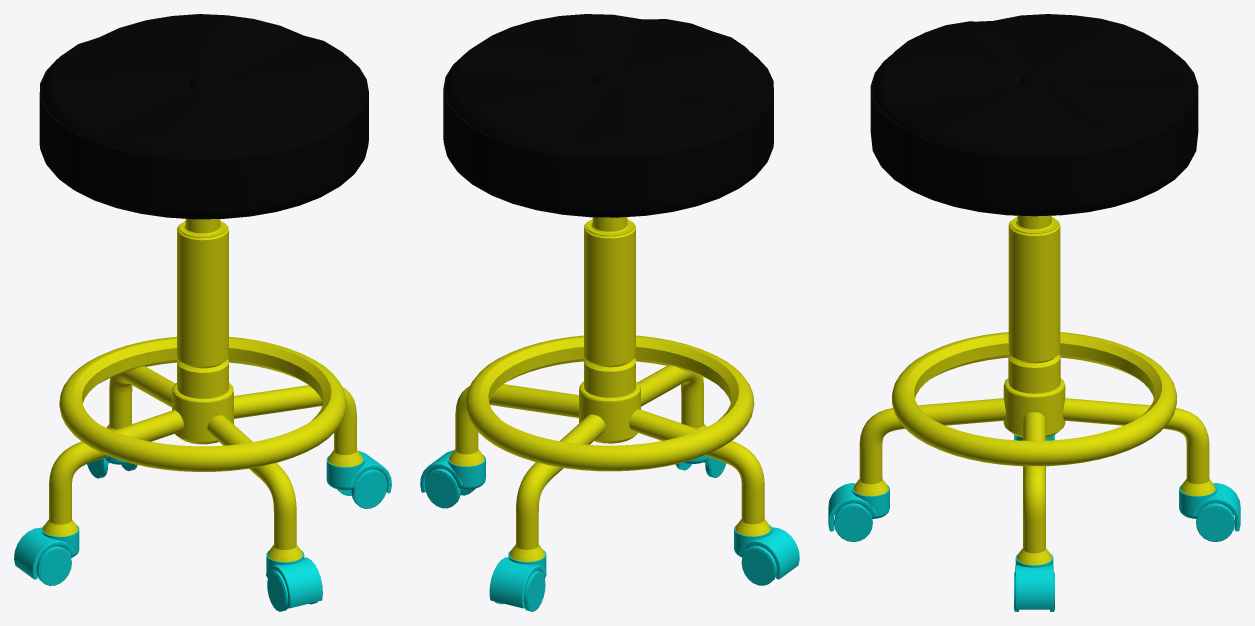
The model's file is FBX_Stool.fbx.
The picture shows the model from 3 angles, left to right: view 1: azimuth 30°, elevation 25°; view 2: azimuth 150°, elevation 25°; view 3: azimuth 270°, elevation 25°; orthographic projection.
Visible parts, largest first — view 1: FBX_Stool; view 2: FBX_Stool; view 3: FBX_Stool.
Part boxes in pixels (x1=…): FBX_Stool: x1=14, y1=14, x2=391, y2=611; FBX_Stool: x1=420, y1=14, x2=799, y2=611; FBX_Stool: x1=828, y1=14, x2=1240, y2=611.
Size of the model in its own units: 53.17 by 65.45 by 53.17.
